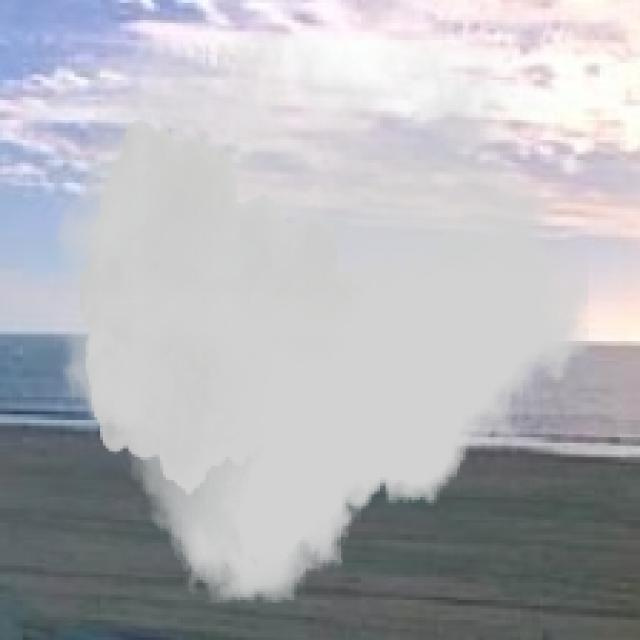Smoke: (54, 34, 589, 603)
